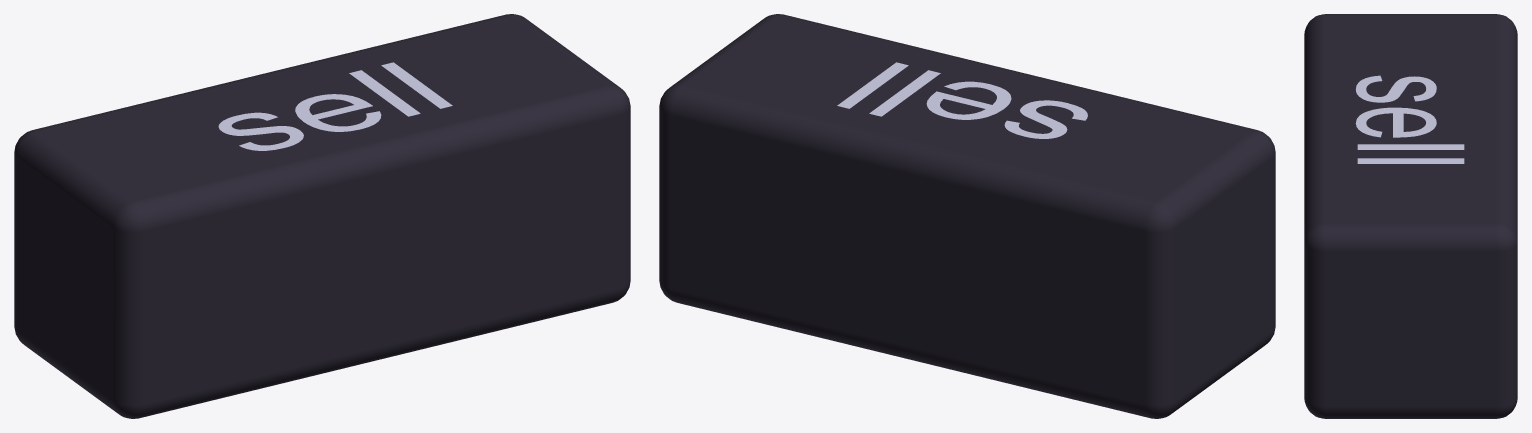
File: sell.glb
The picture shows the model from 3 angles, left to right: view 1: azimuth 30°, elevation 25°; view 2: azimuth 150°, elevation 25°; view 3: azimuth 270°, elevation 25°; orthographic projection. The views are drawn at different scales.
Parts seen in each view (by area): view 1: Cut, Extrude; view 2: Cut, Extrude; view 3: Cut, Extrude.
Boxes of the visible parts, box(x1,y1,x2,y2) form: Cut: box(14, 14, 630, 418); Extrude: box(218, 62, 452, 150); Cut: box(659, 14, 1275, 418); Extrude: box(837, 62, 1087, 138); Cut: box(1304, 14, 1517, 418); Extrude: box(1355, 75, 1464, 163).
Size of the model in its own units: 5 by 2 by 2.
